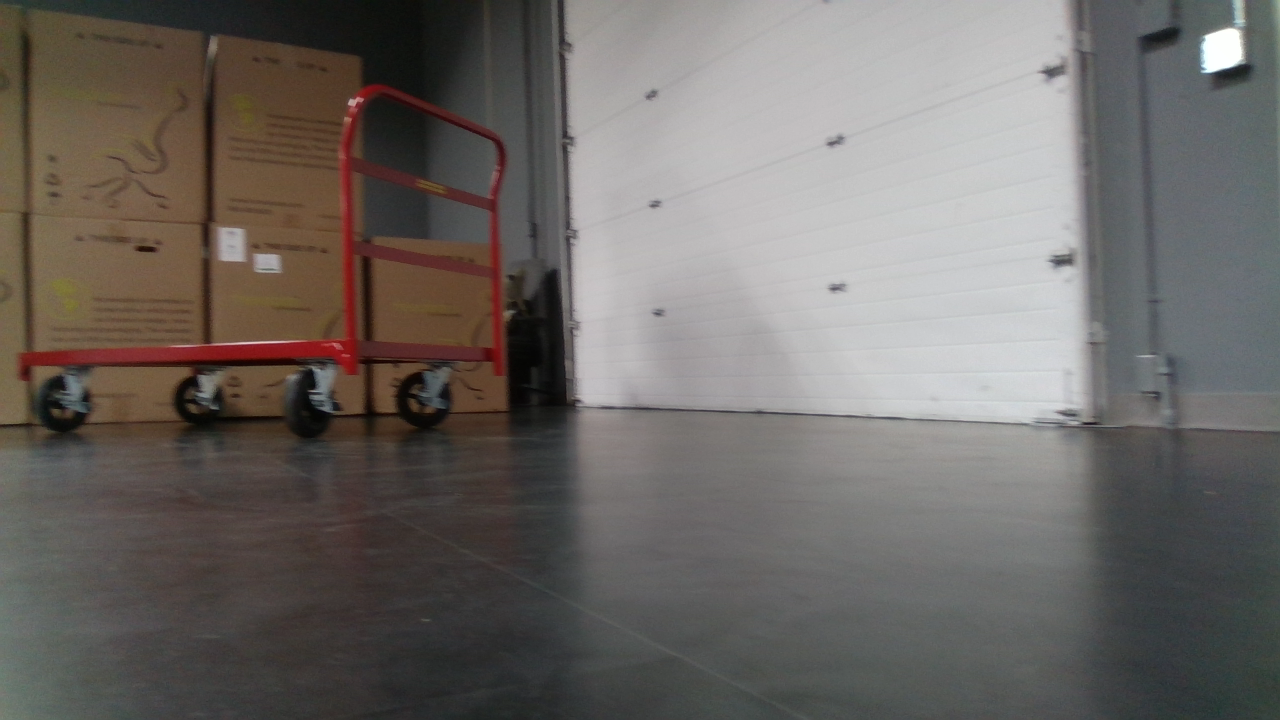Dolly: (12, 76, 515, 438)
Wheel: (279, 366, 342, 438), (394, 368, 457, 429), (34, 371, 94, 435), (174, 370, 228, 428)
